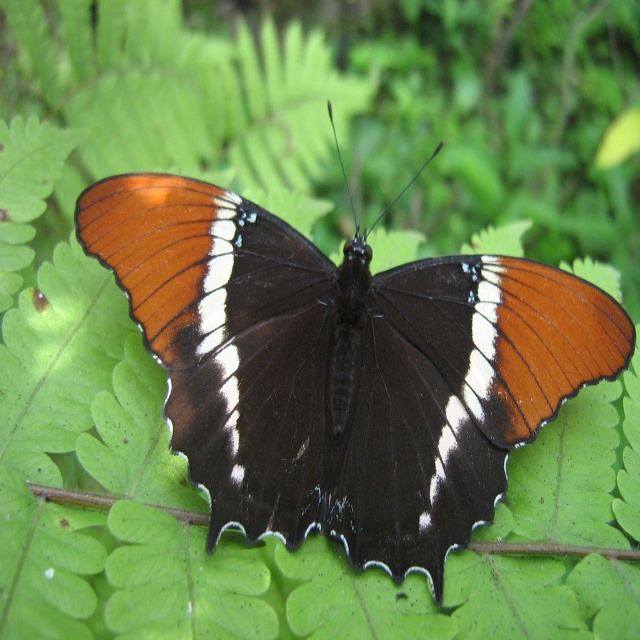Butterfly: (64, 97, 628, 583)
